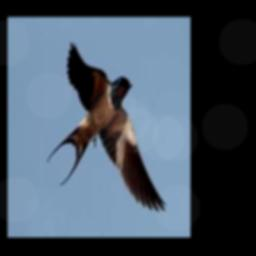Swallow: (47, 41, 166, 210)
